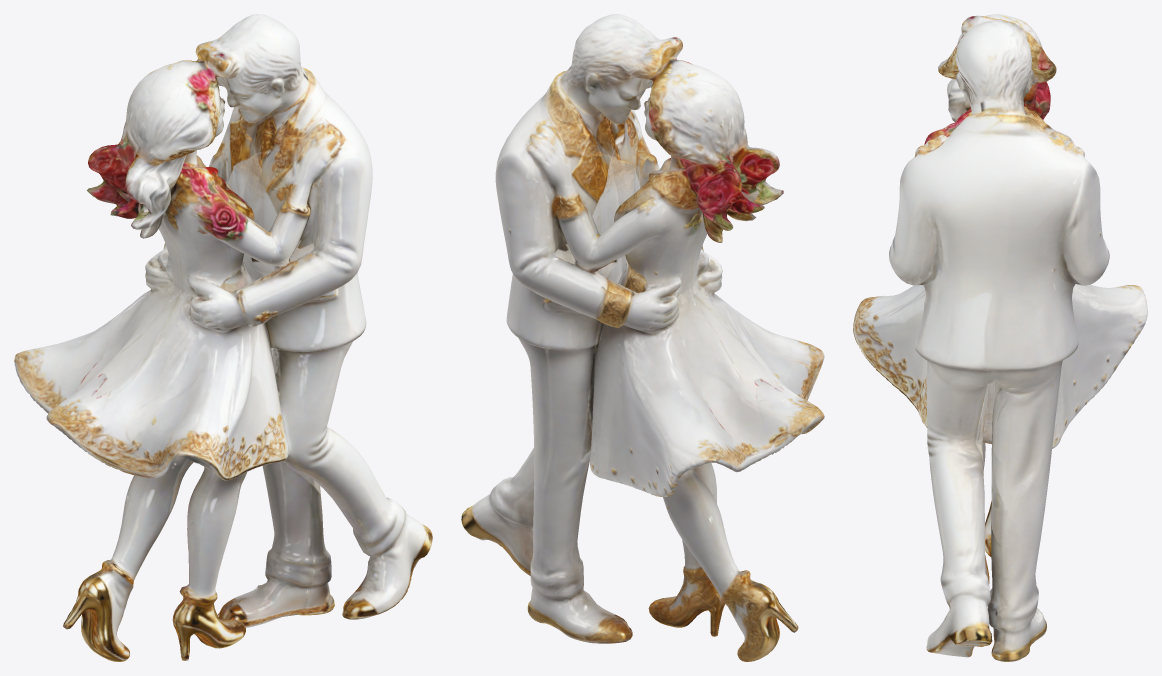
The model's file is dances_-_figurine.glb.
3 views of the same model, side by side, from view 1: azimuth 30°, elevation 25°; view 2: azimuth 150°, elevation 25°; view 3: azimuth 270°, elevation 25° (orthographic).
Visible parts, largest first — view 1: tmpd1h5iygj.ply_Material.001_0; view 2: tmpd1h5iygj.ply_Material.001_0; view 3: tmpd1h5iygj.ply_Material.001_0.
Boxes of the visible parts, x1,y1,x2,y2 form: tmpd1h5iygj.ply_Material.001_0: [14, 14, 432, 661]; tmpd1h5iygj.ply_Material.001_0: [461, 14, 824, 661]; tmpd1h5iygj.ply_Material.001_0: [853, 14, 1147, 661].
Size of the model in its own units: 1.27 by 2 by 0.8894.
1 material, 1 textured.
